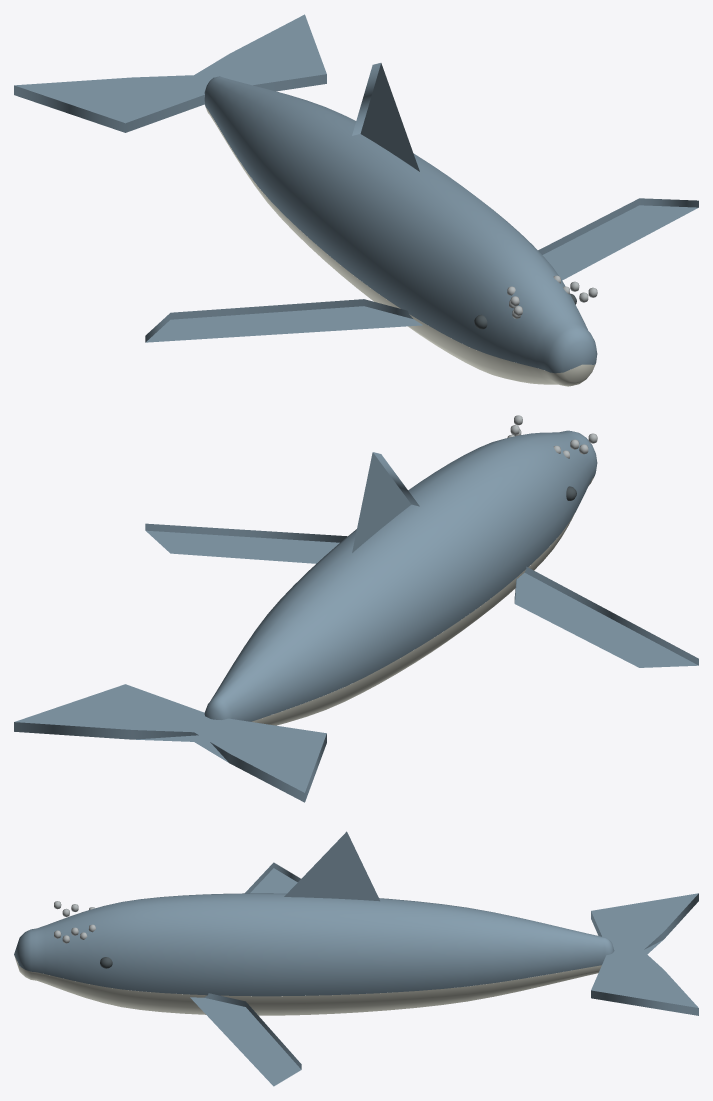
The model's file is open-ocean-and-deep-sea-life-humpback-whale-16525751__5859.glb.
The picture shows the model from 3 angles, top to bottom: view 1: azimuth 30°, elevation 25°; view 2: azimuth 150°, elevation 25°; view 3: azimuth 270°, elevation 25°; orthographic projection. The views are drawn at different scales.
Parts seen in each view (by area): view 1: humpback-whale; view 2: humpback-whale; view 3: humpback-whale.
Boxes of the visible parts, x1=… form: humpback-whale: x1=14, y1=14, x2=698, y2=386; humpback-whale: x1=14, y1=415, x2=698, y2=802; humpback-whale: x1=14, y1=831, x2=698, y2=1086.
Size of the model in its own units: 10.57 by 4.01 by 14.
